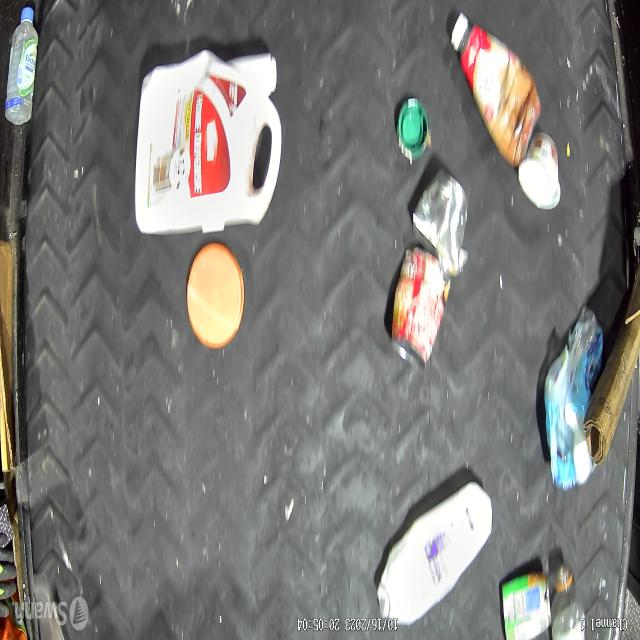can: (390, 245, 453, 368), (411, 169, 469, 277), (501, 572, 552, 640)
milk_jug: (376, 482, 493, 626)
non_white_jug: (135, 48, 282, 235)
plastic_bottle: (5, 4, 38, 127), (551, 563, 587, 640)
